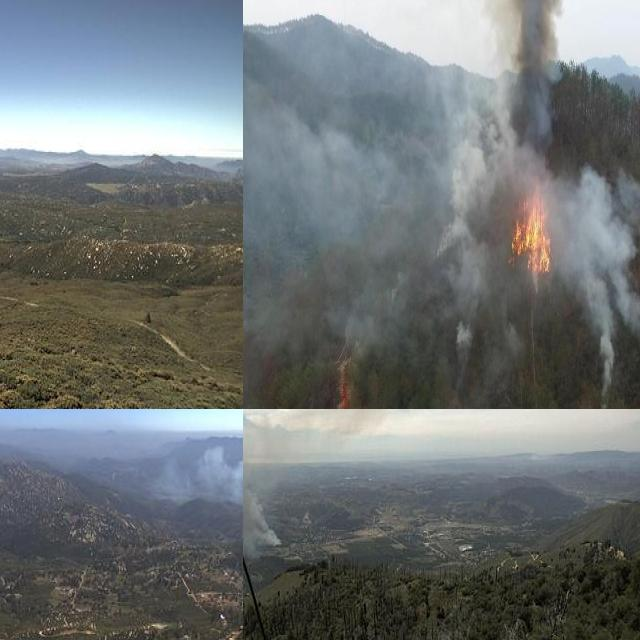fire: (486, 143, 568, 289)
smoke: (243, 0, 640, 398), (152, 439, 243, 509), (243, 440, 281, 554)
